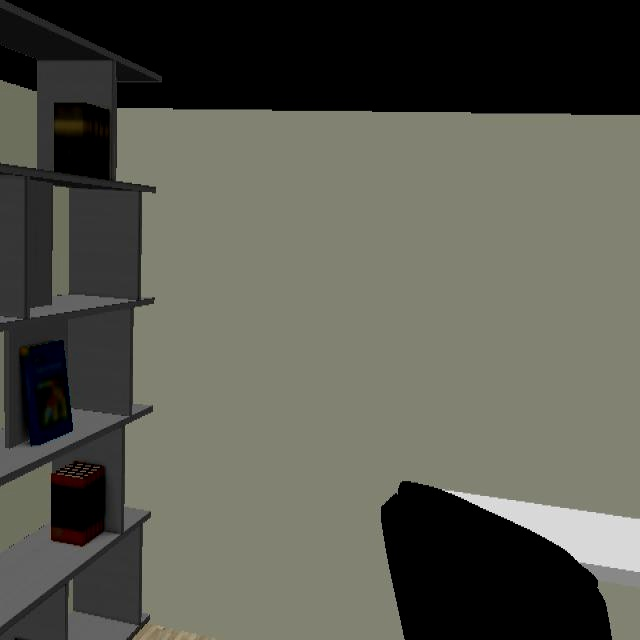book: (15, 340, 73, 448), (52, 463, 105, 548), (53, 101, 110, 180)
bookshelf: (0, 0, 149, 640)
chair: (379, 483, 614, 640)
table: (448, 492, 640, 589)
